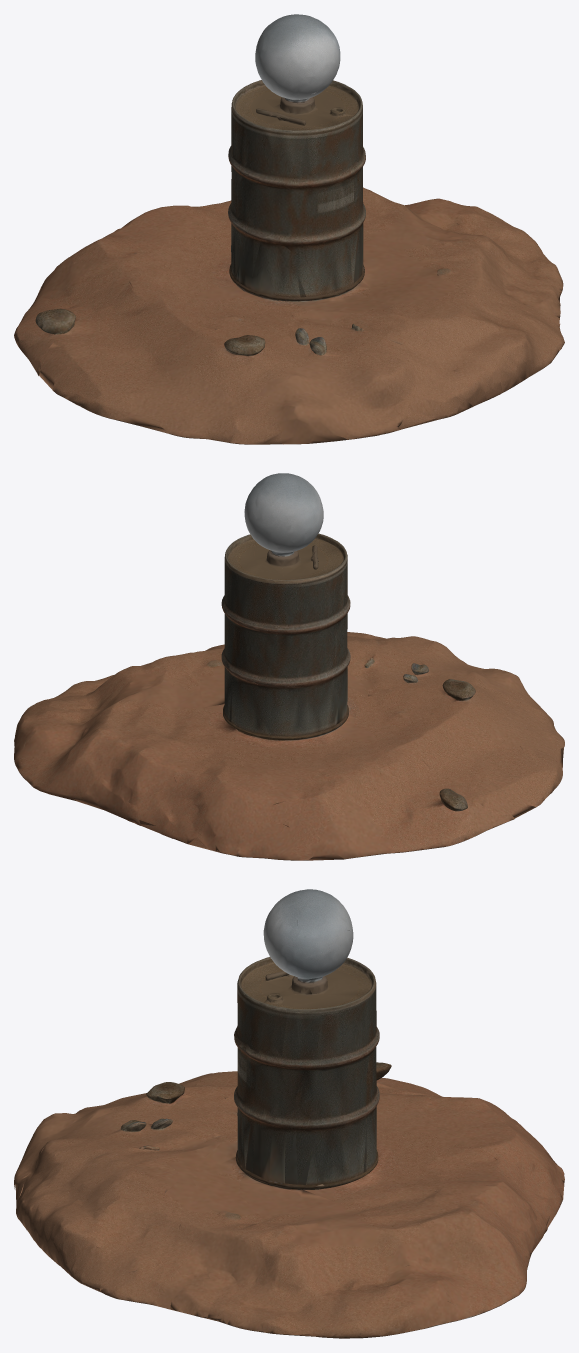
Rendered from still.glb.
3 views of the same model, one above another, from view 1: azimuth 30°, elevation 25°; view 2: azimuth 150°, elevation 25°; view 3: azimuth 270°, elevation 25° (orthographic). The views are drawn at different scales.
Visible parts, largest first — view 1: mesh_node; view 2: mesh_node; view 3: mesh_node.
Boxes of the visible parts, x1,y1,x2,y2 form: mesh_node: [14, 14, 564, 444]; mesh_node: [14, 473, 564, 860]; mesh_node: [14, 889, 564, 1338].
Bounding box in the file's own units: 1.6 × 0.9 × 1.42.
Materials: 1 (1 with a texture image).
